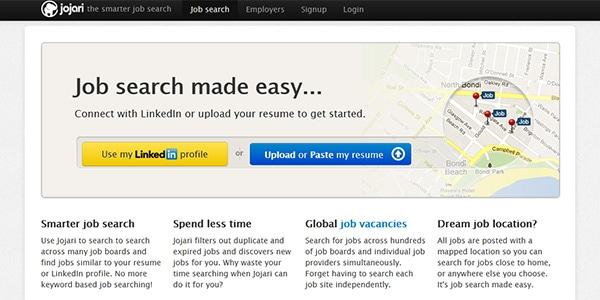button: (247, 141, 415, 166), (80, 142, 230, 168)
